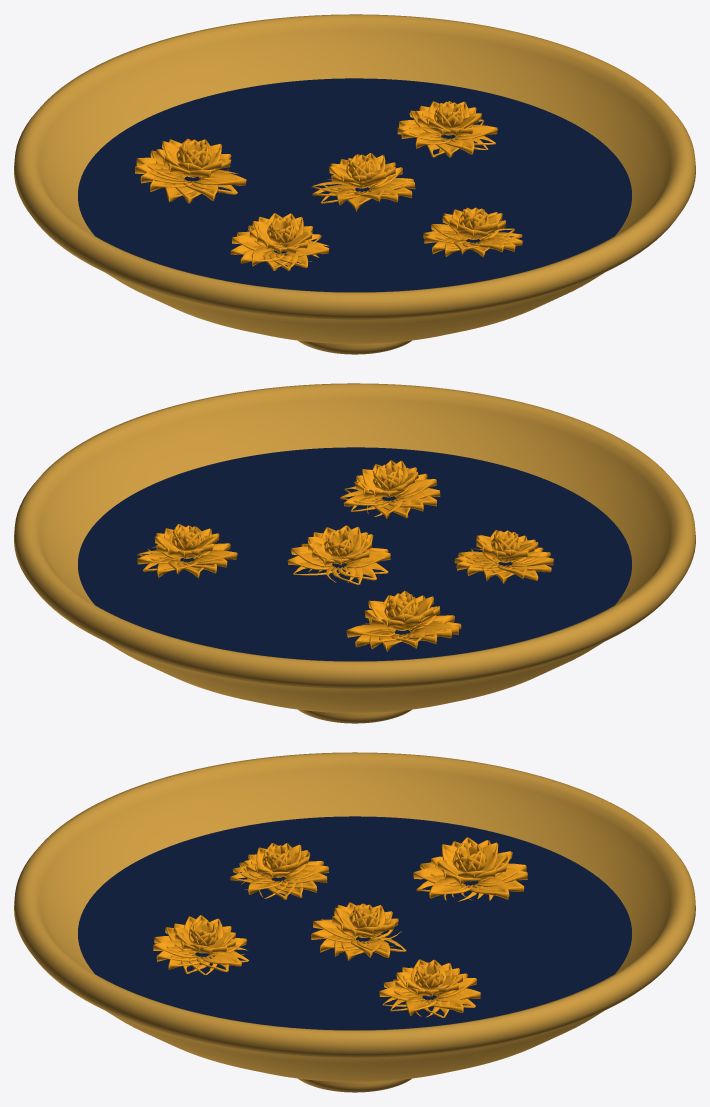
Rendered from urli.glb.
The picture shows the model from 3 angles, top to bottom: view 1: azimuth 30°, elevation 25°; view 2: azimuth 150°, elevation 25°; view 3: azimuth 270°, elevation 25°; orthographic projection.
Parts seen in each view (by area): view 1: urli, water, petal_3, petal_5, petal_2, petal_1, petal_4; view 2: urli, water, petal_3, petal_1, petal_4, petal_2, petal_5; view 3: urli, water, petal_3, petal_2, petal_4, petal_5, petal_1.
Boxes of the visible parts, x1,y1,x2,y2 form: urli: (14,14,695,354); water: (78,78,631,292); petal_3: (135,138,246,203); petal_5: (230,213,329,270); petal_2: (397,101,497,157); petal_1: (311,153,415,211); petal_4: (423,207,522,257); urli: (14,383,695,723); water: (78,447,631,661); petal_3: (346,590,461,651); petal_1: (287,525,390,584); petal_4: (340,460,440,518); petal_2: (137,524,237,578); petal_5: (454,530,553,583); urli: (14,752,695,1092); water: (78,816,631,1030); petal_3: (413,837,527,901); petal_2: (379,959,480,1017); petal_4: (153,915,249,974); petal_5: (230,843,328,899); petal_1: (311,902,406,960).
Bounding box in the file's own units: 2 × 0.5684 × 2.
